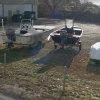Boat: (8, 17, 84, 52)
